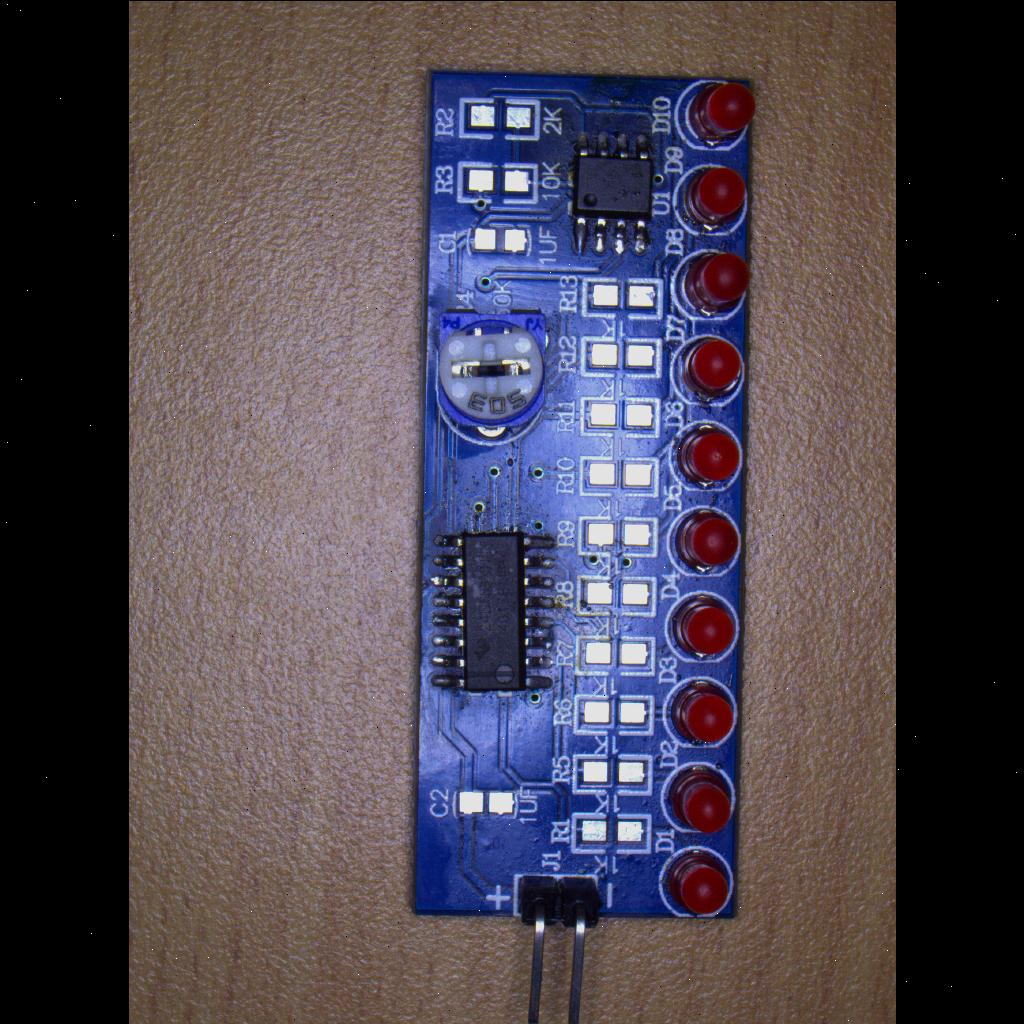NG: (456, 93, 542, 143), (453, 158, 541, 204), (568, 750, 656, 796), (574, 511, 658, 559), (572, 573, 658, 619), (570, 811, 654, 857), (578, 393, 662, 439), (578, 276, 664, 320), (572, 693, 656, 737), (576, 454, 660, 498), (579, 334, 665, 376), (460, 220, 540, 262), (572, 635, 656, 675), (447, 780, 519, 824)
OK: (426, 526, 560, 702), (570, 126, 658, 260)
